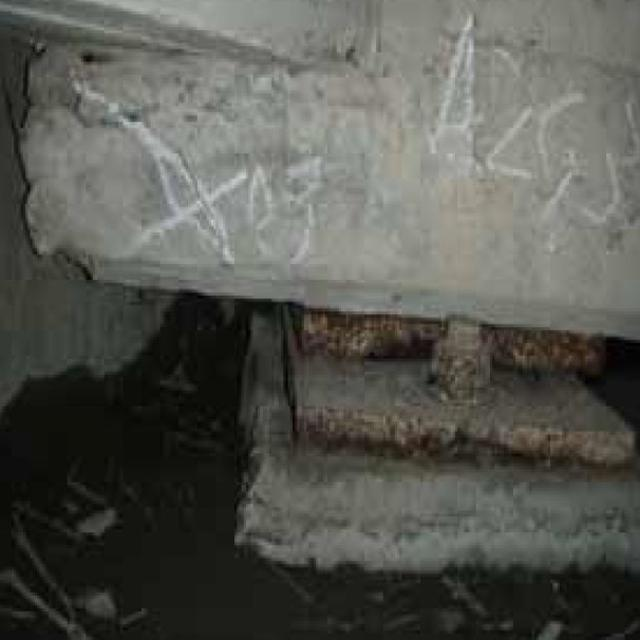corrosion: (238, 294, 626, 483)
crack: (49, 71, 250, 270)
